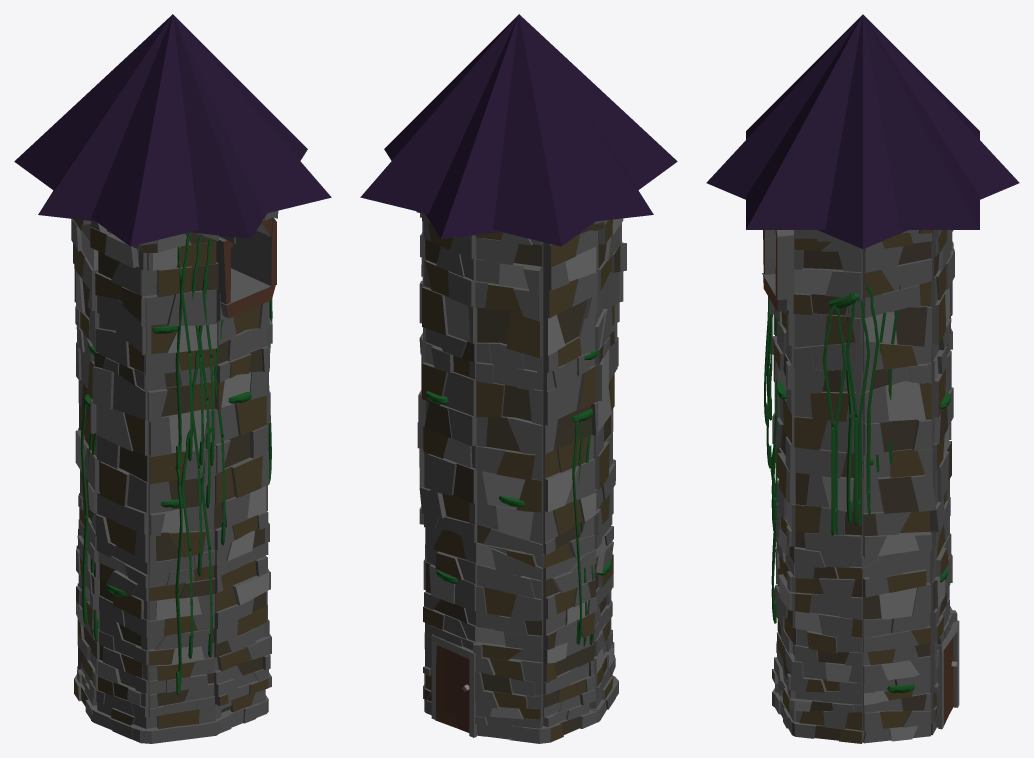
The model's file is Kule.fbx.
3 renders of one model, left to right at view 1: azimuth 30°, elevation 25°; view 2: azimuth 150°, elevation 25°; view 3: azimuth 270°, elevation 25°, orthographic.
Visible parts, largest first — view 1: Kule, Tepe, BezierCurve.012, BezierCurve.001, BezierCurve, VineStuff, BezierCurve.007, BezierCurve.005, BezierCurve.009, BezierCurve.003, BezierCurve.006, BezierCurve.008 (+2 smaller); view 2: Kule, Tepe, BezierCurve.012, VineStuff; view 3: Kule, Tepe, BezierCurve.016, BezierCurve.021, BezierCurve.020, BezierCurve.017, VineStuff, BezierCurve.018, BezierCurve.019.
Boxes of the visible parts, bbox=[...] form: Kule: bbox=[71, 211, 278, 743]; Tepe: bbox=[14, 14, 331, 246]; BezierCurve.012: bbox=[80, 395, 98, 642]; BezierCurve.001: bbox=[175, 466, 182, 695]; BezierCurve: bbox=[175, 246, 182, 469]; VineStuff: bbox=[84, 325, 251, 597]; BezierCurve.007: bbox=[180, 232, 192, 460]; BezierCurve.005: bbox=[181, 429, 193, 658]; BezierCurve.009: bbox=[202, 238, 214, 465]; BezierCurve.003: bbox=[192, 350, 202, 576]; BezierCurve.006: bbox=[200, 427, 212, 657]; BezierCurve.008: bbox=[191, 235, 203, 465]; Kule: bbox=[416, 211, 626, 743]; Tepe: bbox=[360, 14, 677, 246]; BezierCurve.012: bbox=[572, 414, 593, 646]; VineStuff: bbox=[425, 349, 611, 583]; Kule: bbox=[762, 230, 959, 743]; Tepe: bbox=[706, 14, 1019, 248]; BezierCurve.016: bbox=[857, 285, 900, 526]; BezierCurve.021: bbox=[846, 297, 858, 525]; BezierCurve.020: bbox=[866, 285, 878, 515]; BezierCurve.017: bbox=[823, 304, 835, 535]; VineStuff: bbox=[777, 292, 950, 693]; BezierCurve.018: bbox=[834, 305, 846, 534]; BezierCurve.019: bbox=[846, 293, 852, 523].
Bounding box in the file's own units: 3017 × 7351 × 3017.
